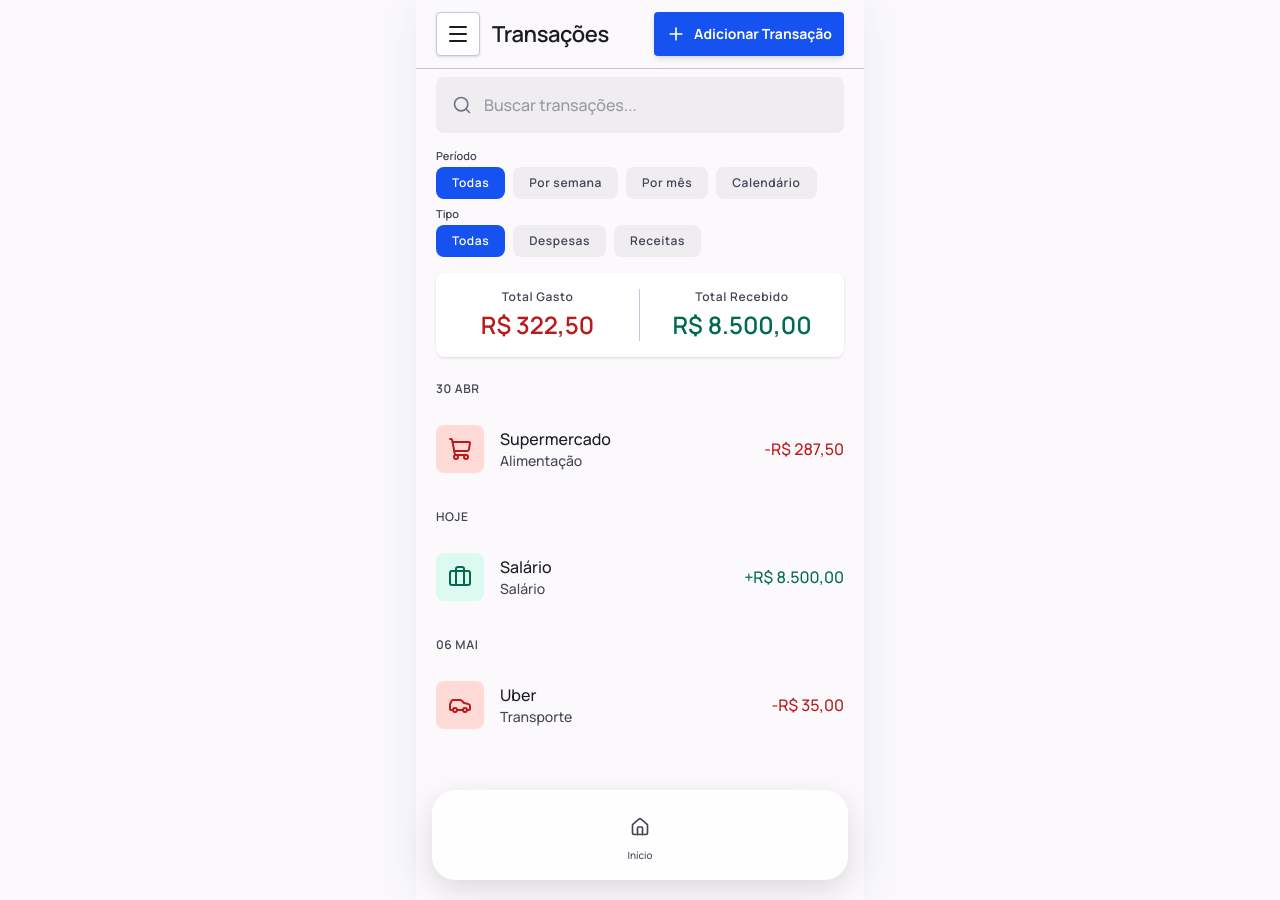
Test: TransactionsView › usa filtros por semana, mês e calendário com transactionDate
Click the button "Por semana" at (566, 183), box [513,167,618,199]
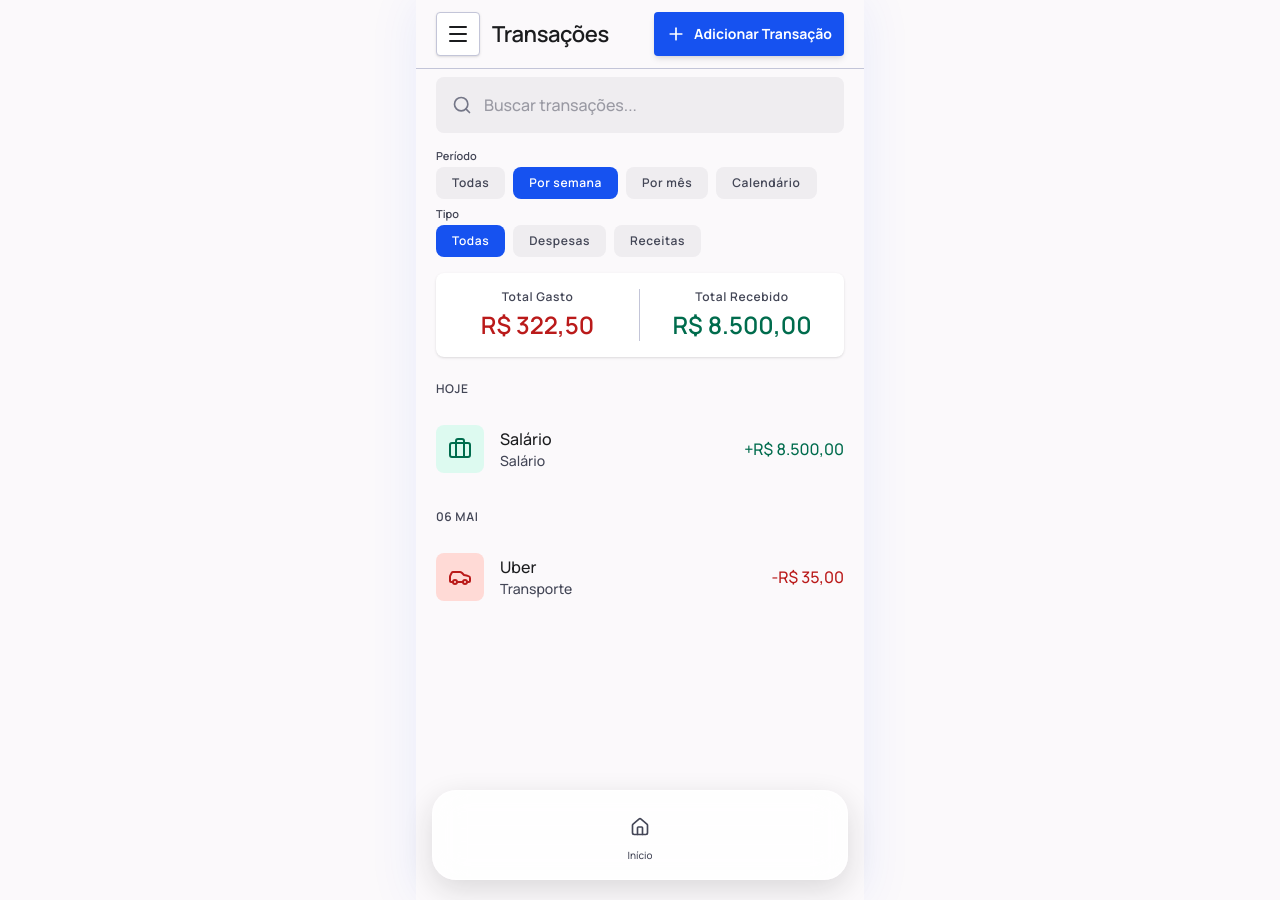
Expected: the text "Uber" is shown, [500,556,536,578]
Result: the button "Supermercado" is gone
Click the button "Por mês" at (667, 183), box [626,167,708,199]
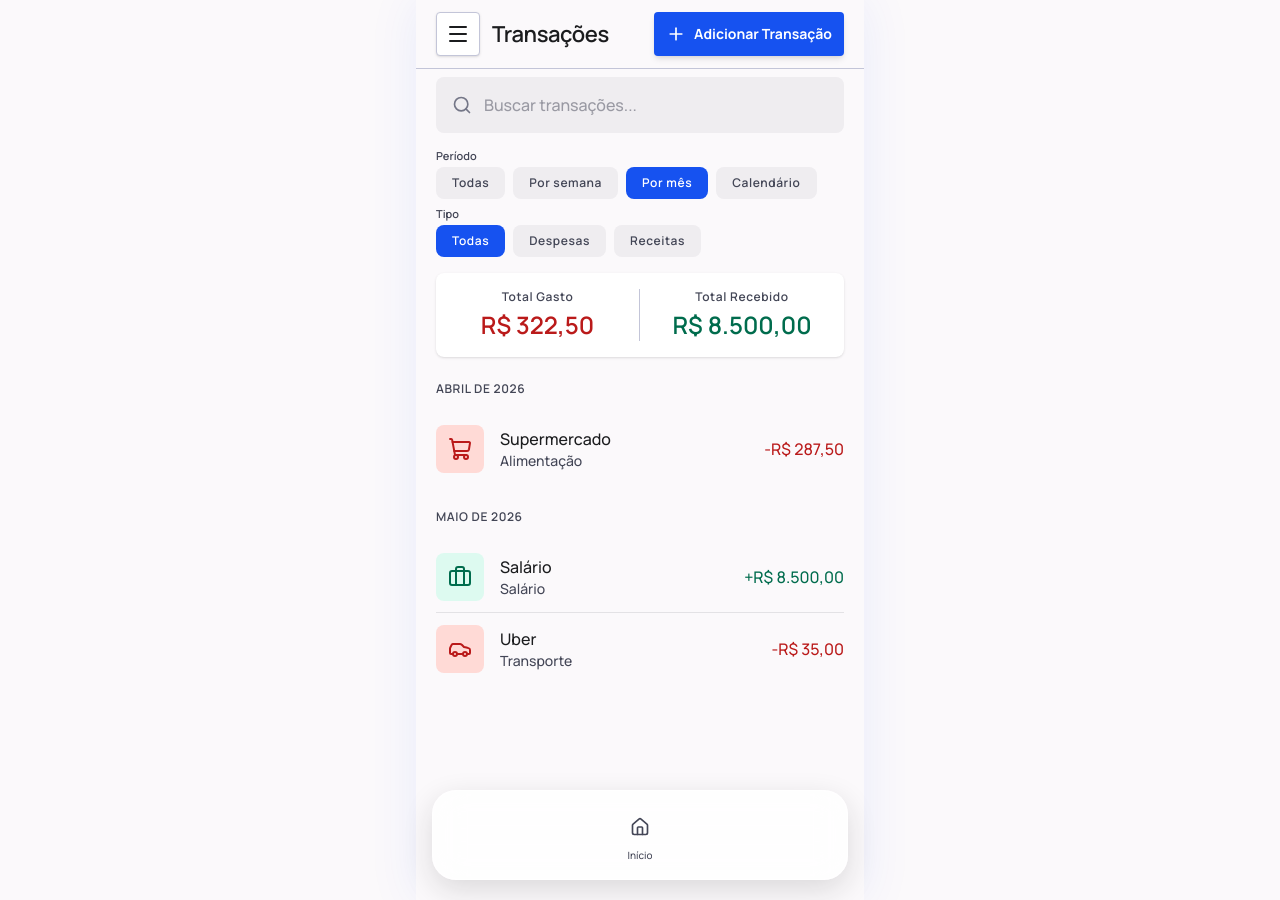
Result: the text "Supermercado" is shown at [500,427,611,451]
Result: the heading "maio de 2026" is shown at [436,501,844,533]
Result: the heading "abril de 2026" is shown at [436,373,844,405]
Click the button "Calendário" at (766, 183), box [716,167,816,199]
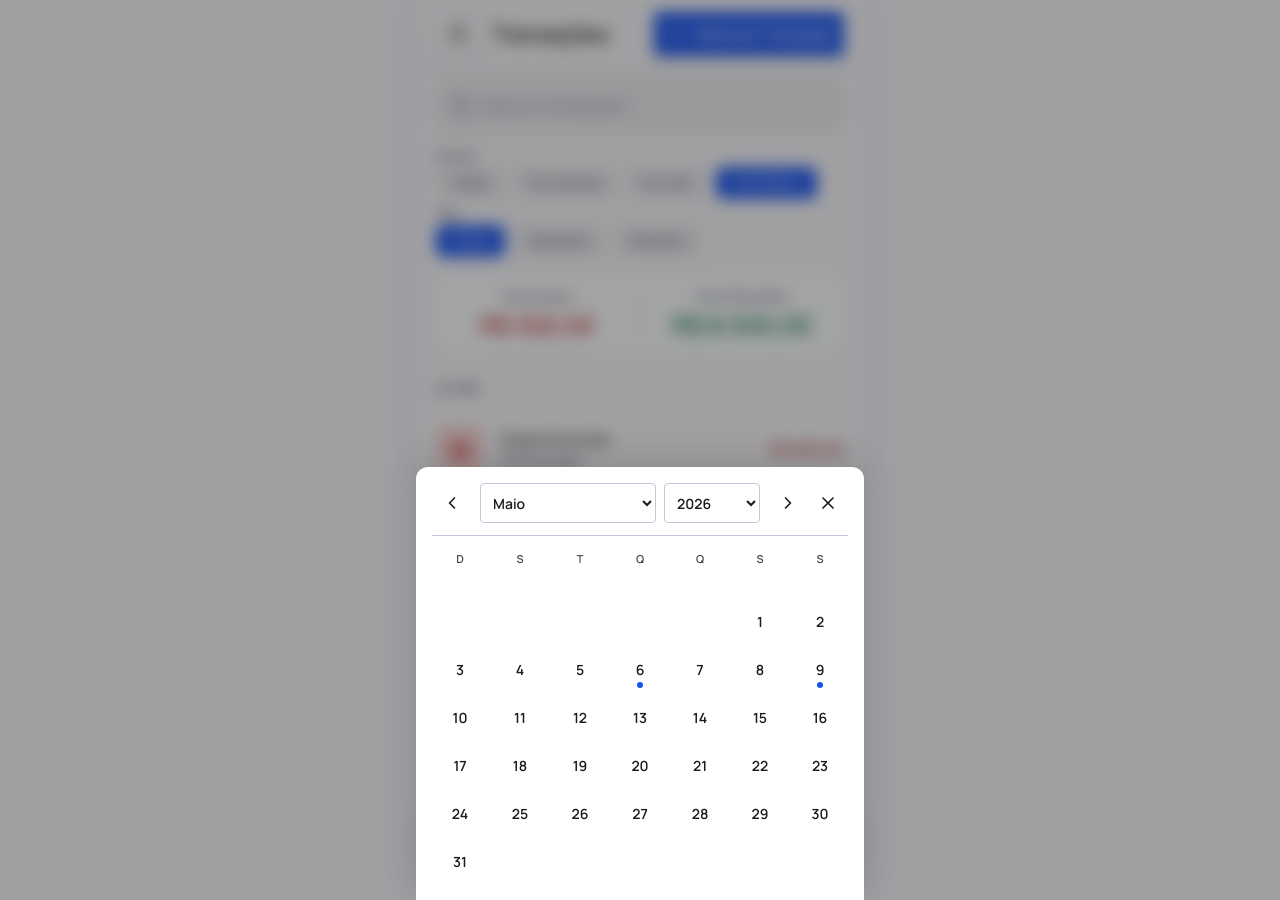
Result: the dropdown named "Selecionar mês" shows "maio" at [480,483,656,523]
Result: the dropdown named "Selecionar ano" shows "2026" at [664,483,760,523]
Click the button "6" at (640, 670), box [612,648,668,692]
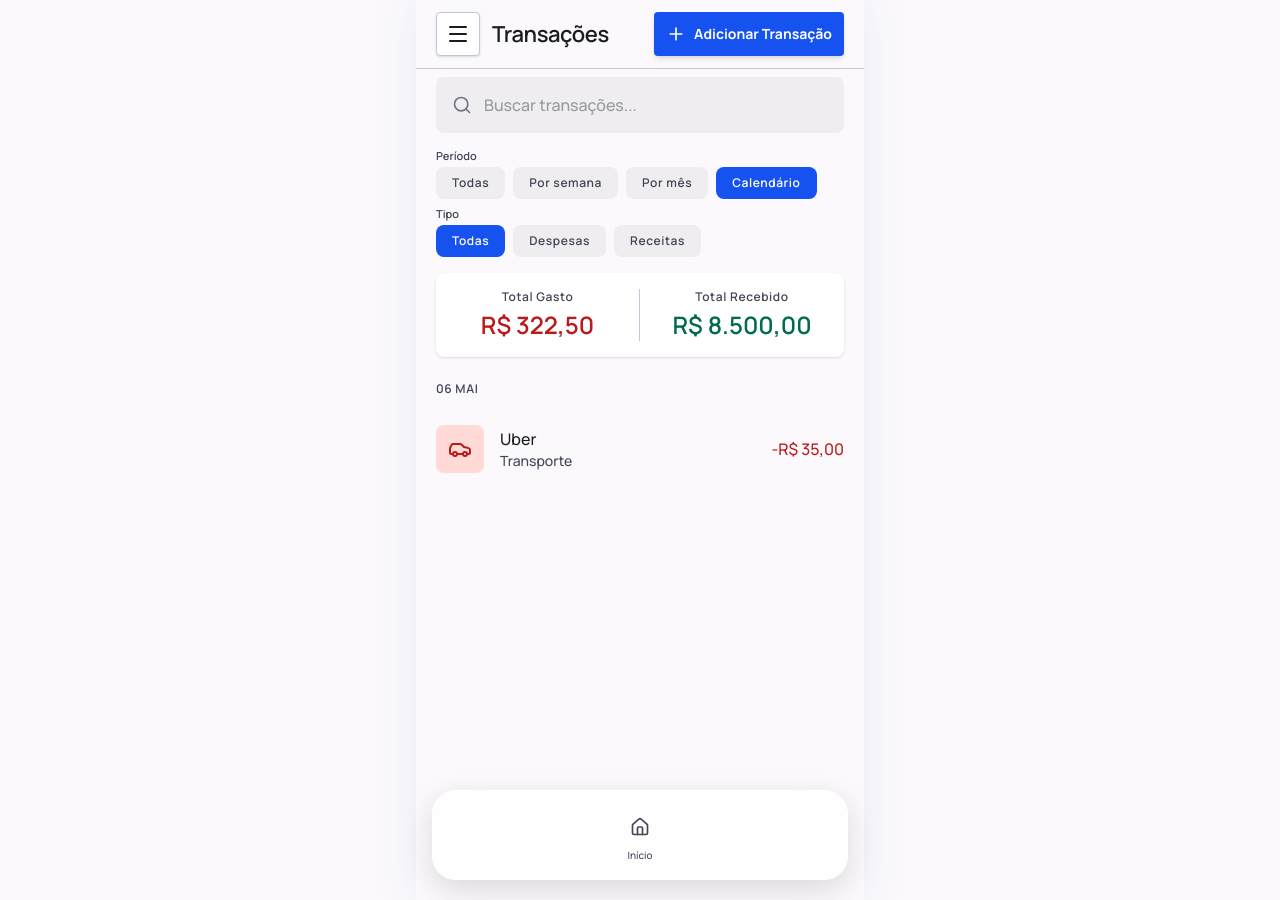
Expected: the text "Uber" is shown, [500,428,536,450]
Result: the button "Salário" is gone
Result: the button "Supermercado" is gone
